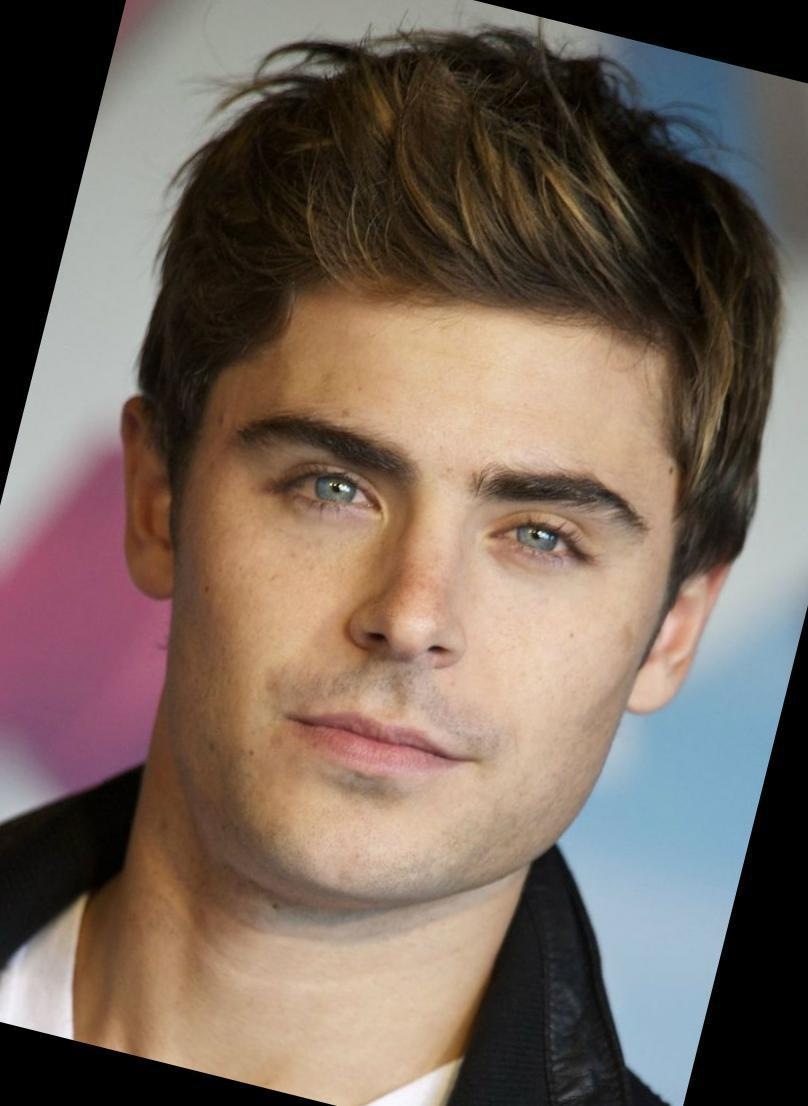Sober: (203, 313, 657, 845)
